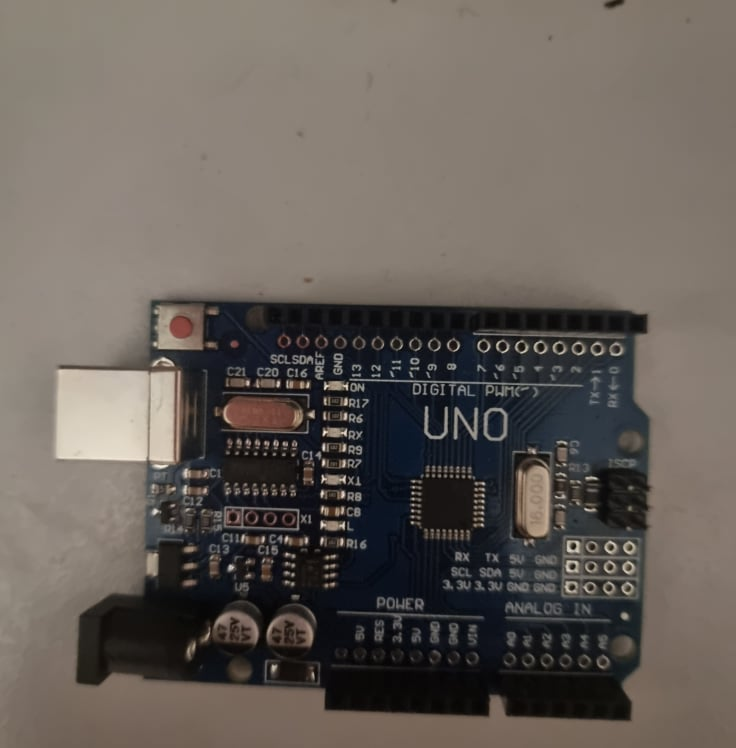UNO R3: (53, 299, 655, 724)
